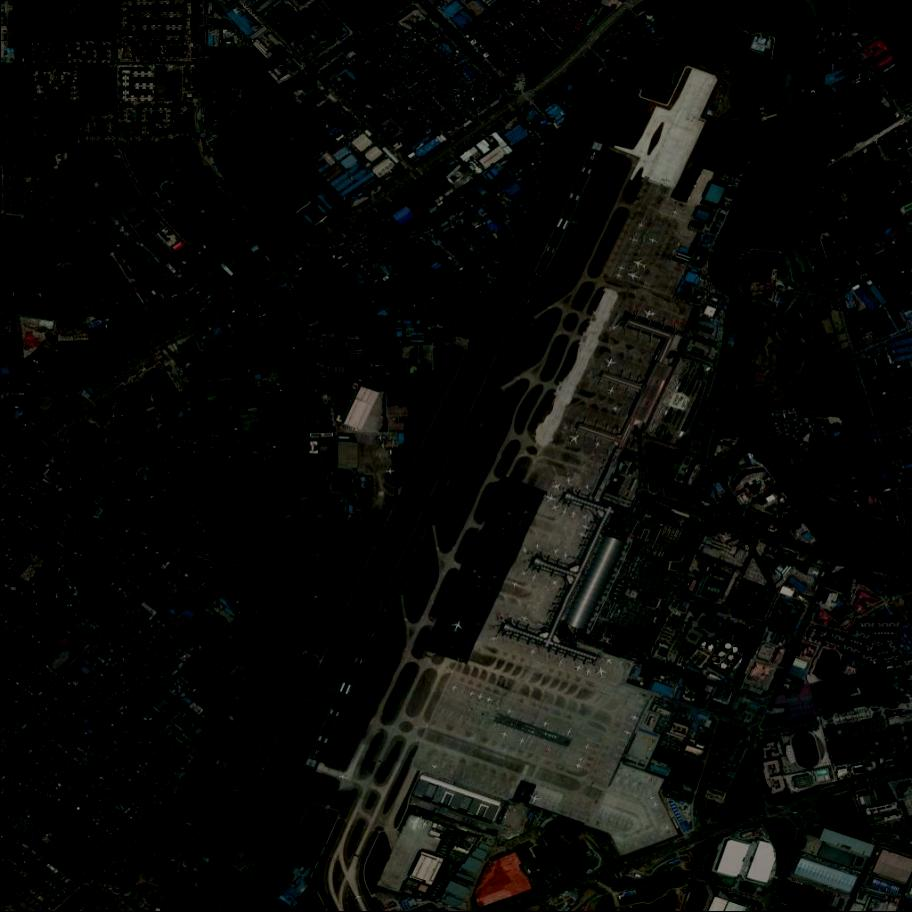storage-tank: (722, 661, 730, 671), (727, 656, 736, 664), (724, 642, 732, 650), (719, 650, 725, 658), (733, 648, 739, 654), (701, 641, 707, 647), (713, 657, 719, 662), (708, 645, 714, 650)
